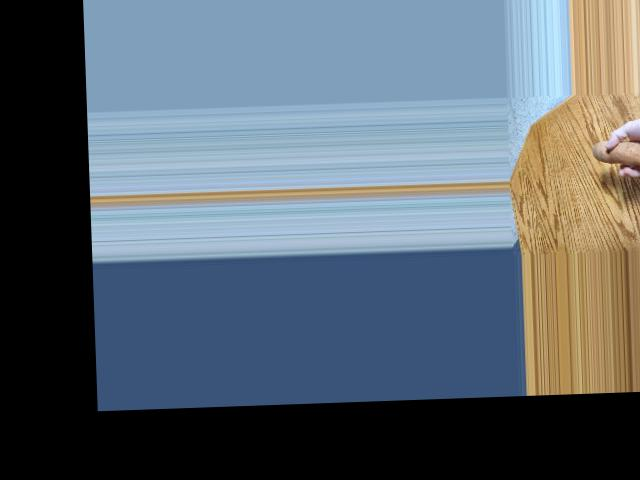sweet_potato: (594, 137, 640, 168)
